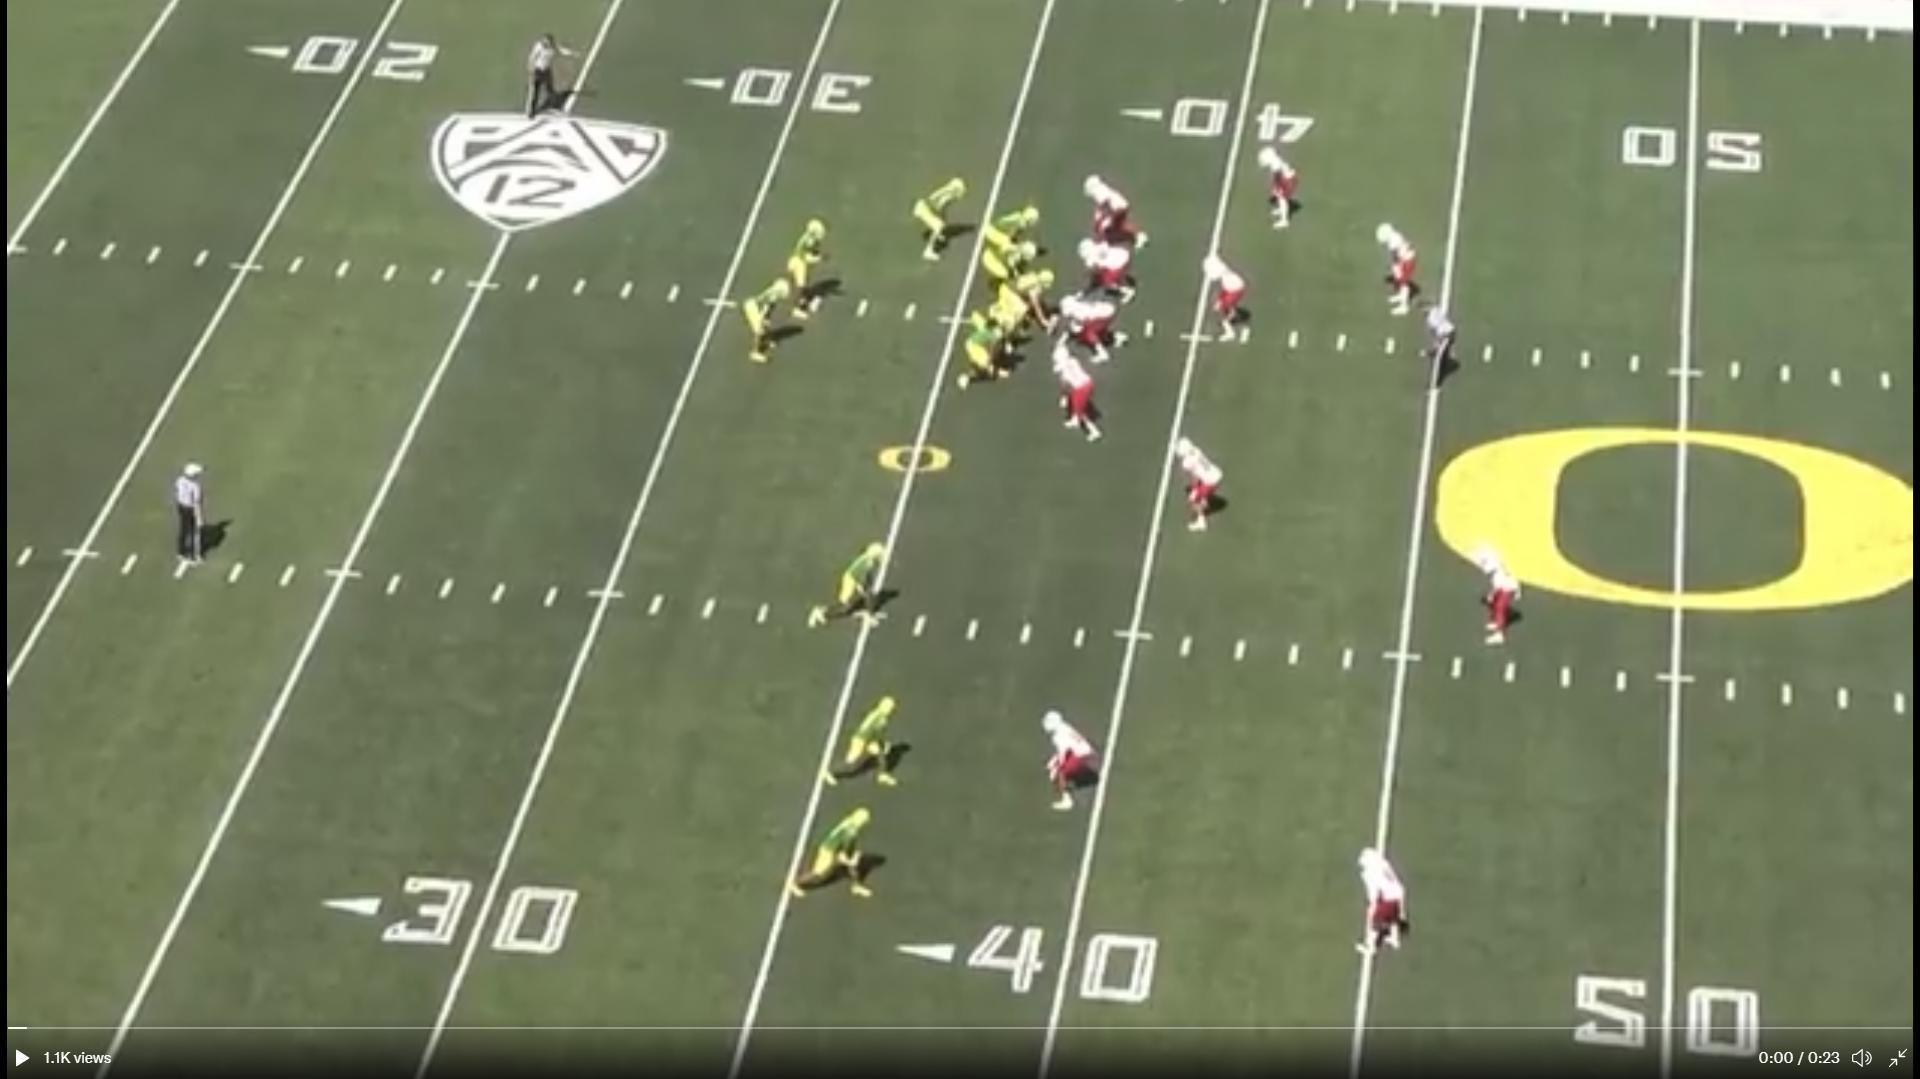defense: (1344, 842, 1411, 963), (1035, 706, 1102, 818), (1470, 534, 1524, 650), (1168, 435, 1226, 538), (1048, 347, 1105, 445), (1051, 295, 1126, 368), (1199, 252, 1250, 346), (1257, 146, 1307, 237), (1077, 169, 1143, 235), (1377, 222, 1420, 321), (1076, 239, 1138, 307)
oline: (953, 310, 1019, 396), (1005, 266, 1063, 334), (982, 241, 1042, 286), (981, 207, 1043, 247), (972, 297, 1029, 328)
qb: (786, 212, 836, 322)
ref: (173, 459, 227, 574), (522, 29, 574, 123), (1425, 303, 1465, 390)
skill: (782, 806, 884, 910), (820, 695, 911, 798), (810, 533, 898, 634), (914, 173, 971, 264), (741, 273, 793, 369)
